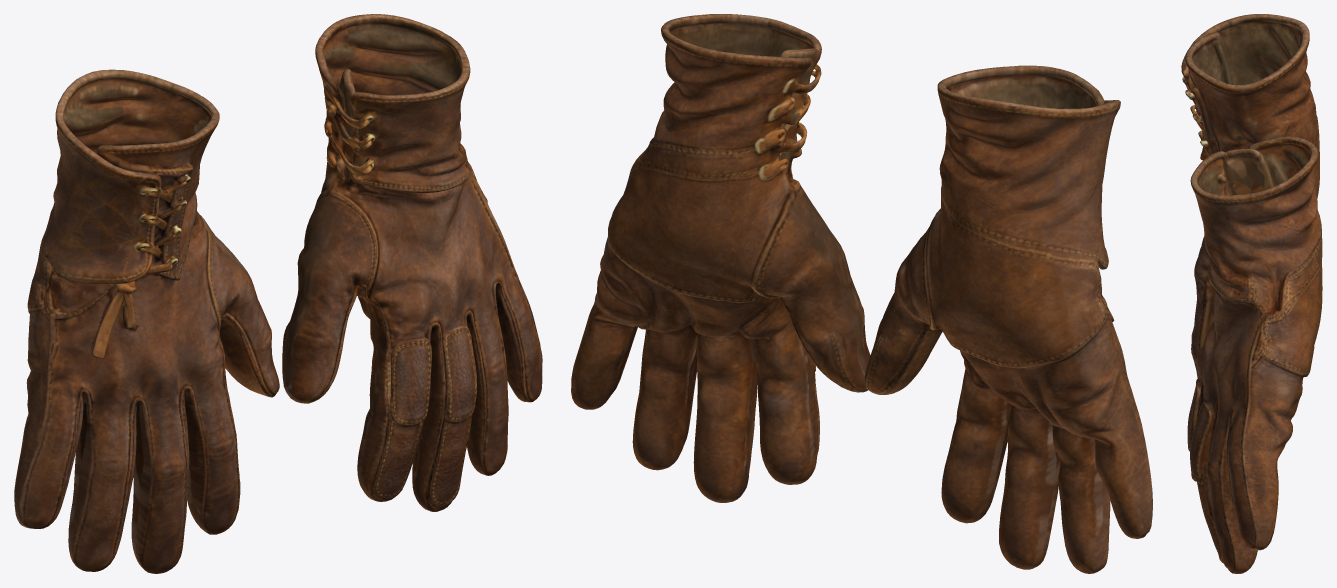
File: archers_gloves.glb
The picture shows the model from 3 angles, left to right: view 1: azimuth 30°, elevation 25°; view 2: azimuth 150°, elevation 25°; view 3: azimuth 270°, elevation 25°; orthographic projection. The views are drawn at different scales.
Parts seen in each view (by area): view 1: geometry_0; view 2: geometry_0; view 3: geometry_0.
Part boxes in pixels (x1,y1,x2,y2): geometry_0: [14, 14, 542, 573]; geometry_0: [571, 14, 1152, 573]; geometry_0: [1181, 14, 1322, 573].
Size of the model in its own units: 0.9904 by 0.8524 by 0.2654.
1 material, 1 textured.
